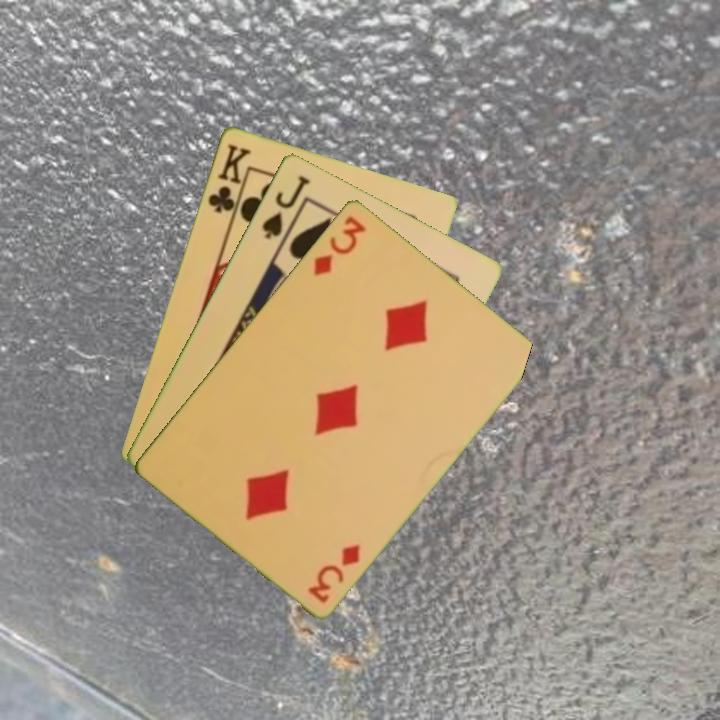3d: (309, 212, 369, 279), (304, 539, 363, 606)
Js: (258, 171, 313, 241)
Kc: (204, 139, 253, 223)
